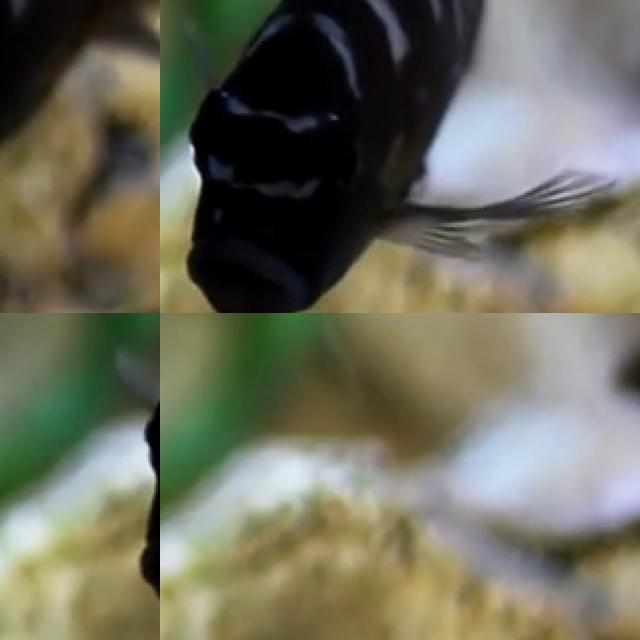fish: (0, 0, 160, 313), (621, 313, 640, 548)
